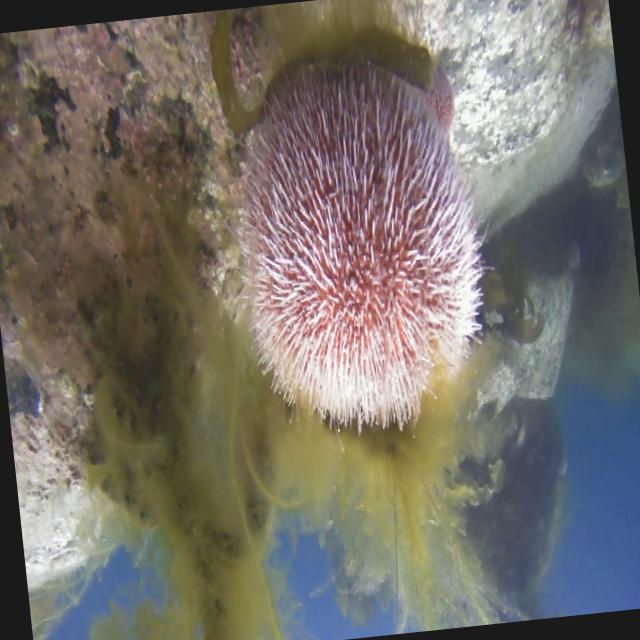Deniz Kestanesi: (205, 42, 510, 464), (423, 64, 456, 134), (564, 240, 580, 268), (555, 453, 567, 476)
